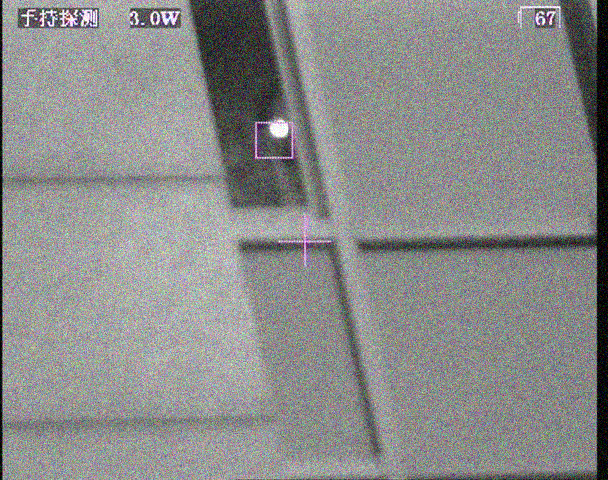my: (268, 117, 289, 139)
